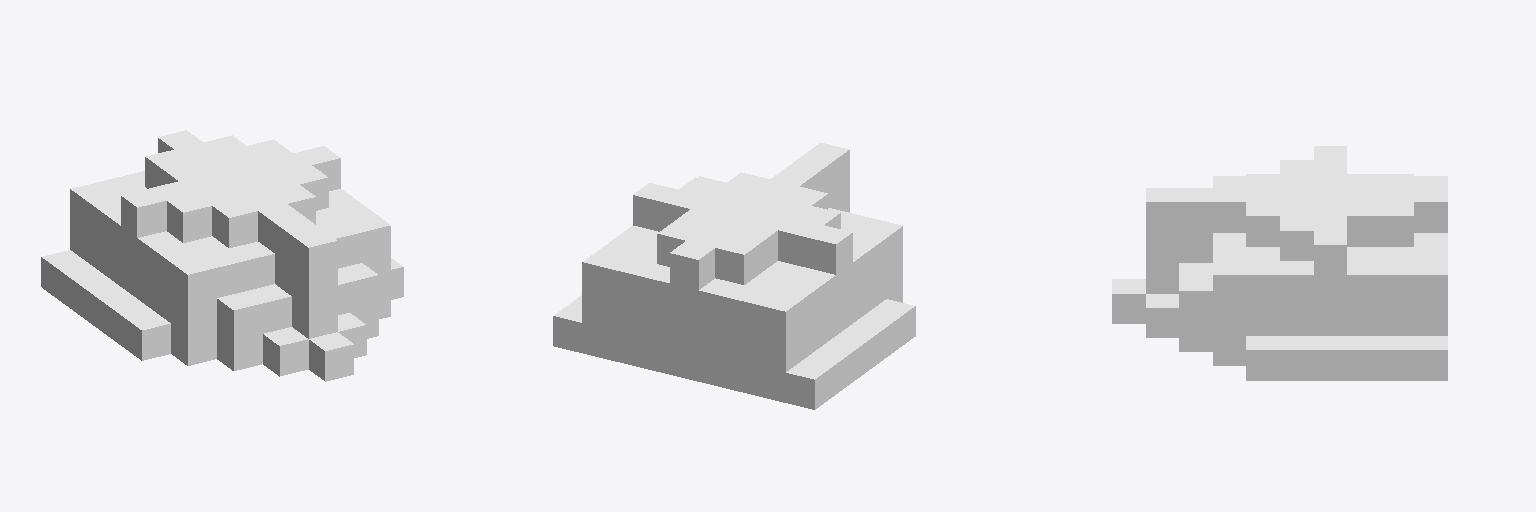
The model's file is emy.obj.
3 renders of one model, left to right at view 1: azimuth 30°, elevation 25°; view 2: azimuth 150°, elevation 25°; view 3: azimuth 270°, elevation 25°, orthographic.
Parts seen in each view (by area): view 1: object 1; view 2: object 1; view 3: object 1.
Boxes of the visible parts, box(x1,y1,x2,y2) form: object 1: box(41, 130, 403, 381); object 1: box(553, 143, 915, 409); object 1: box(1112, 146, 1447, 380).
Bounding box in the file's own units: 0.9 × 0.4 × 1.